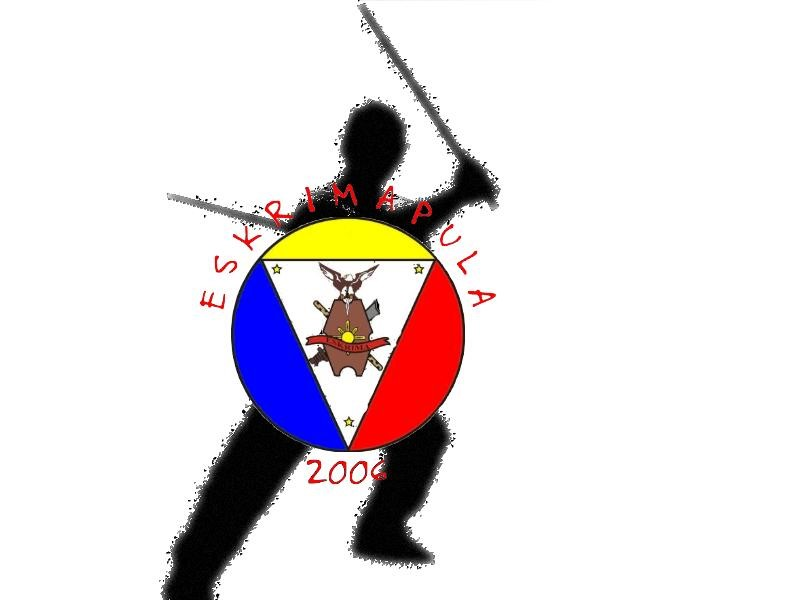baston_e: (358, 10, 463, 151), (171, 192, 279, 236)
baston_v: (159, 186, 179, 206), (486, 198, 504, 219), (354, 0, 370, 12)
